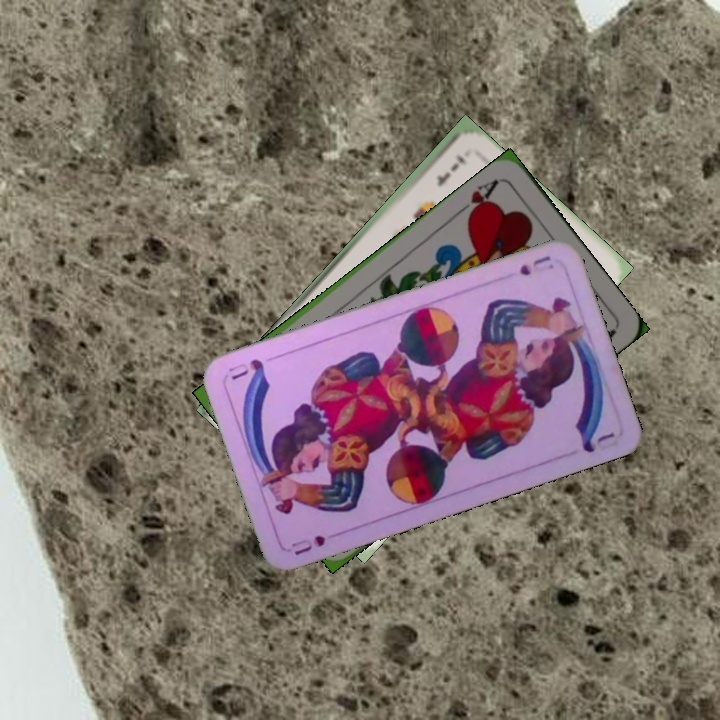E7: (432, 150, 468, 189)
HA: (452, 174, 501, 223)
SU: (287, 527, 343, 558), (515, 251, 557, 278)
